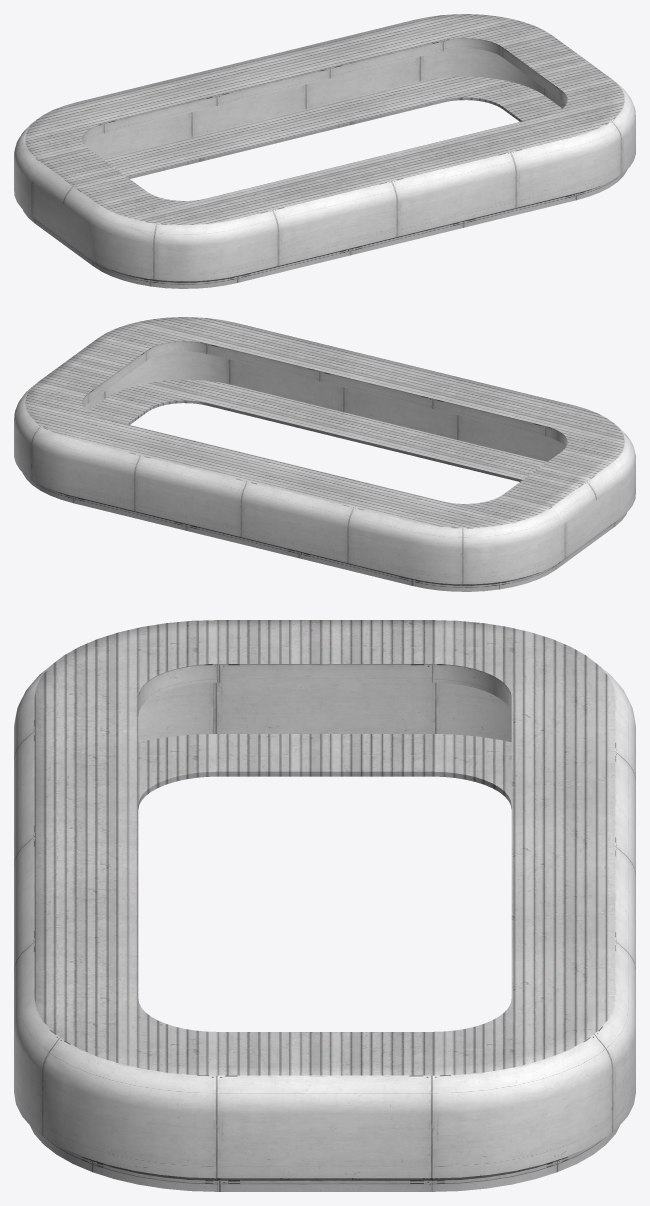
File: Neon_BarTable_01.FBX
3 renders of one model, top to bottom at view 1: azimuth 30°, elevation 25°; view 2: azimuth 150°, elevation 25°; view 3: azimuth 270°, elevation 25°, orthographic. The views are drawn at different scales.
Parts seen in each view (by area): view 1: Neon_BarTable_01; view 2: Neon_BarTable_01; view 3: Neon_BarTable_01.
Part boxes in pixels (bbox=[...]): Neon_BarTable_01: bbox=[14, 14, 635, 288]; Neon_BarTable_01: bbox=[14, 317, 635, 591]; Neon_BarTable_01: bbox=[14, 620, 635, 1191].
Bounding box in the file's own units: 9 × 1 × 5.
